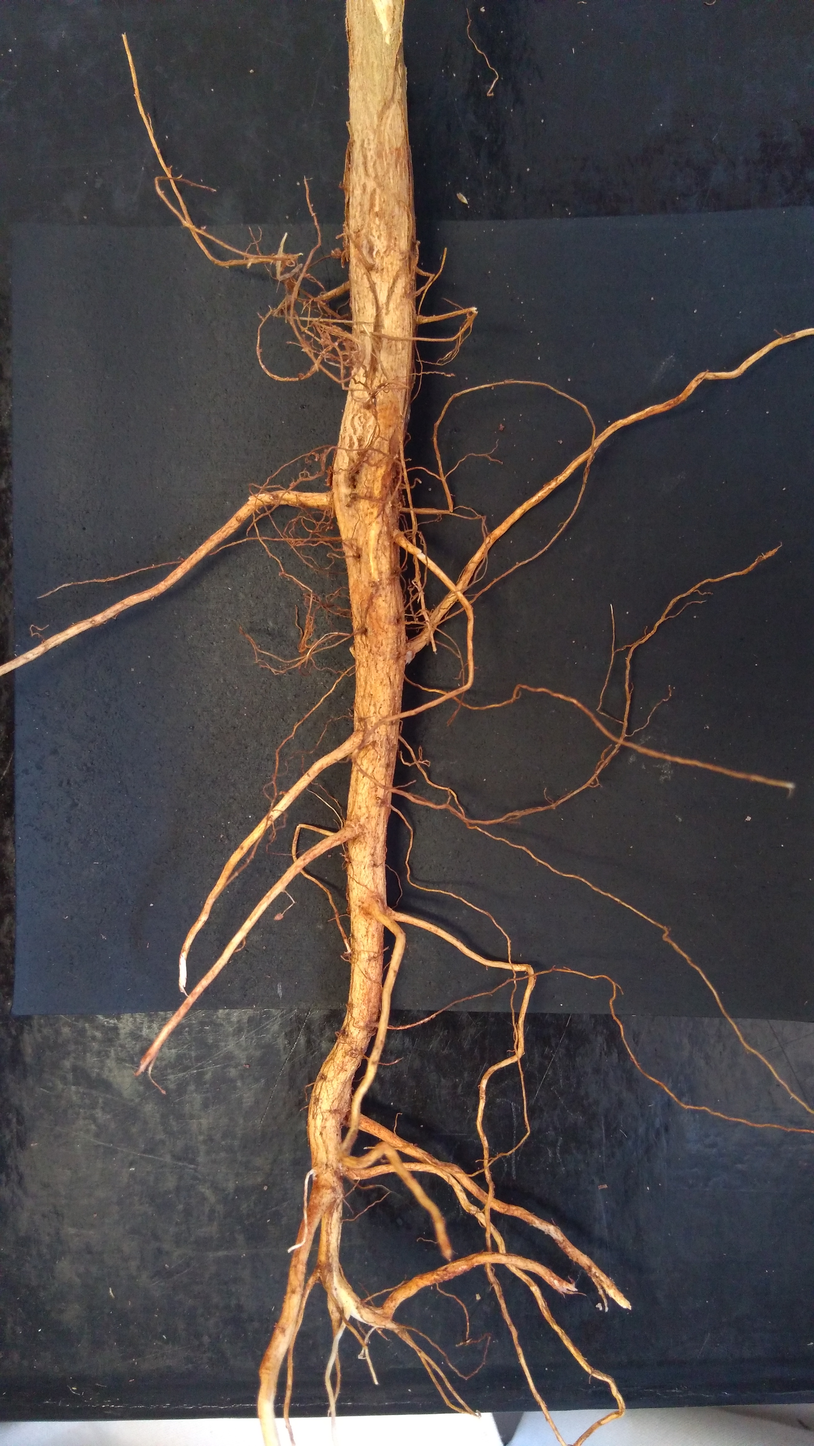nodule: (281, 273, 301, 298), (273, 295, 292, 317), (404, 648, 416, 664), (303, 592, 315, 608), (319, 331, 331, 346), (338, 349, 351, 362), (330, 246, 342, 260), (330, 325, 344, 337), (248, 492, 266, 501), (343, 336, 355, 349), (350, 348, 359, 362), (349, 644, 356, 658), (415, 314, 424, 324), (311, 451, 320, 461), (297, 372, 304, 380), (596, 1302, 602, 1311), (278, 571, 285, 577), (475, 1293, 481, 1300), (405, 635, 409, 642), (330, 525, 335, 530)
